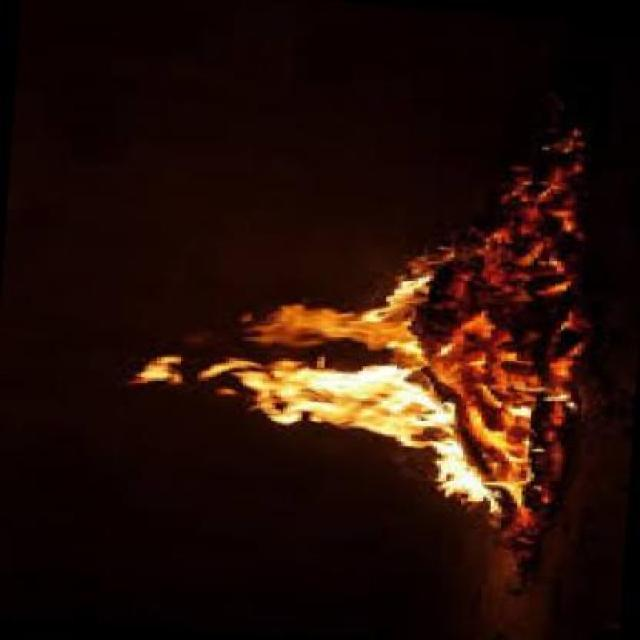Fire: (147, 230, 621, 530)
